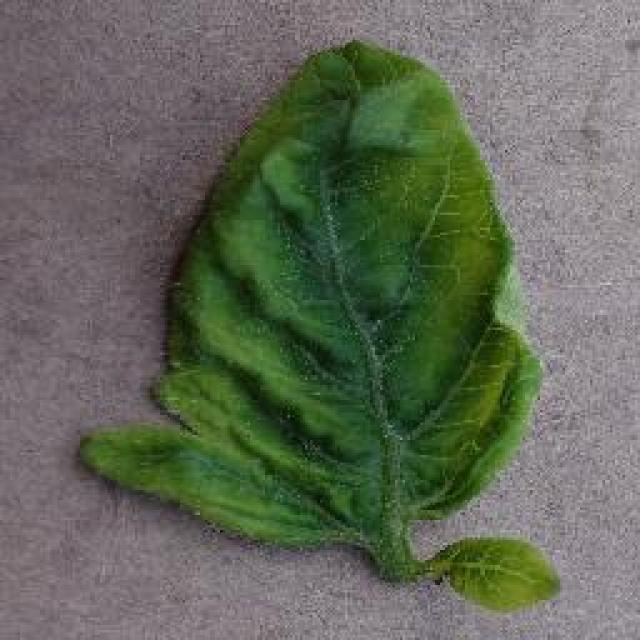Tomato yellow virus leaf: (74, 38, 541, 550), (424, 526, 576, 622)
